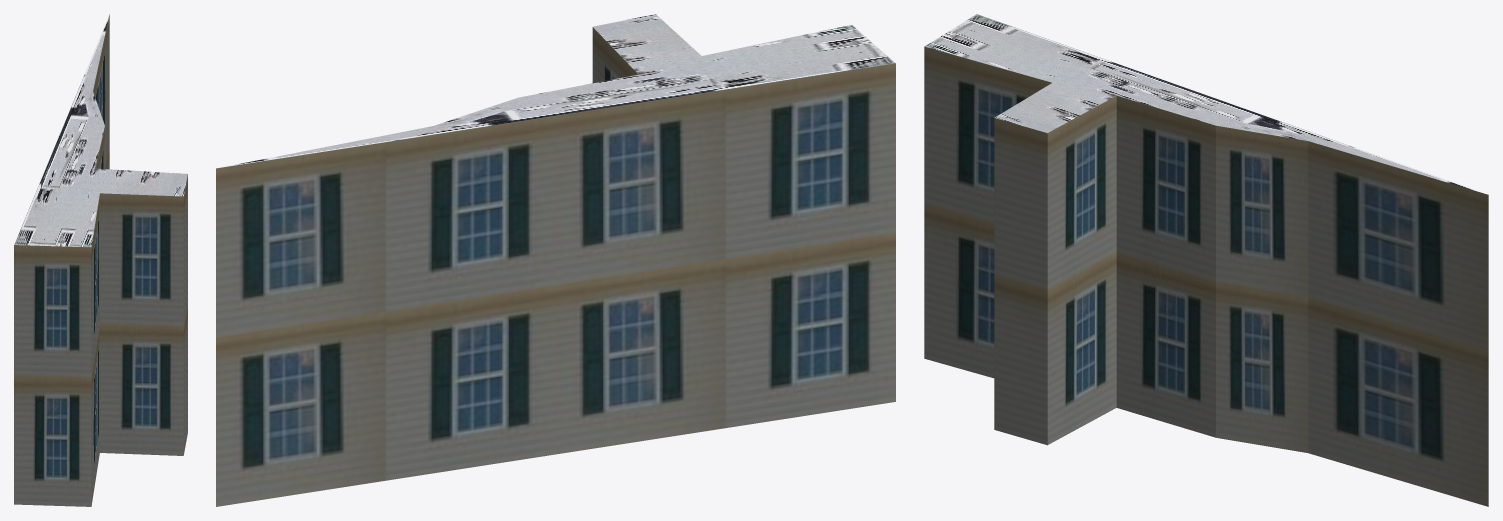
File: ResTex__4492.fbx
3 renders of one model, left to right at view 1: azimuth 30°, elevation 25°; view 2: azimuth 150°, elevation 25°; view 3: azimuth 270°, elevation 25°, orthographic. The views are drawn at different scales.
Parts seen in each view (by area): view 1: CityEngineMaterial_7_m, CityEngineMaterial_m; view 2: CityEngineMaterial_7_m, CityEngineMaterial_m; view 3: CityEngineMaterial_7_m, CityEngineMaterial_m.
Boxes of the visible parts, x1,y1,x2,y2 form: CityEngineMaterial_7_m: (14,14,187,506); CityEngineMaterial_m: (14,15,187,247); CityEngineMaterial_7_m: (216,27,895,506); CityEngineMaterial_m: (219,14,895,167); CityEngineMaterial_7_m: (924,46,1488,506); CityEngineMaterial_m: (924,14,1485,193).
Size of the model in its own units: 7.46 by 6 by 9.83.
Materials: 2 (2 with a texture image).
